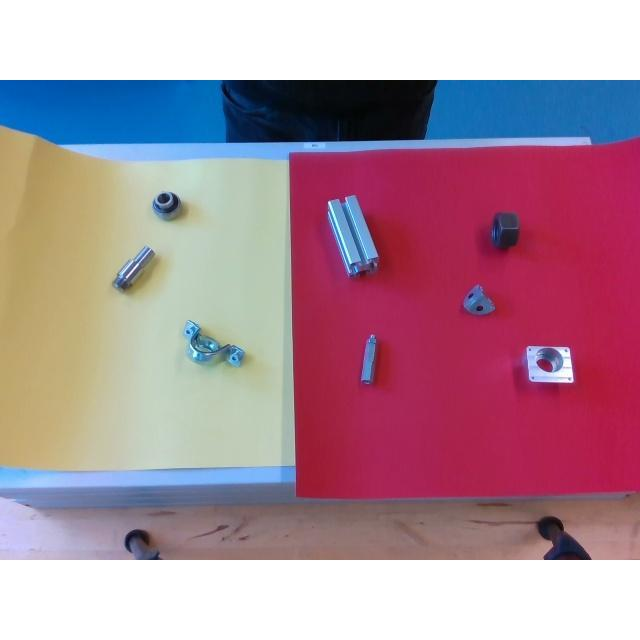Axis2: (112, 246, 154, 290)
Bearing2: (152, 191, 182, 219)
Housing: (183, 321, 244, 364)
M30: (490, 211, 518, 249)
S40_40_G: (327, 194, 378, 274)
